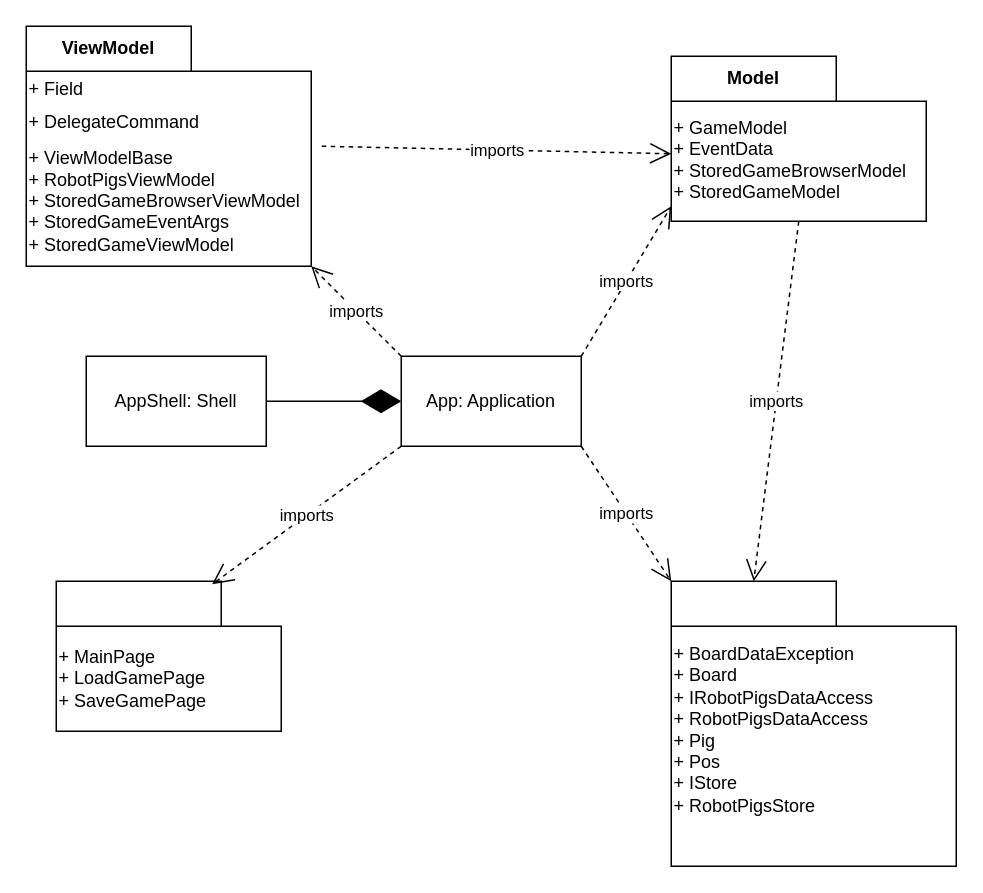
Image size: 983x893. Some labels were removed from this diagram. The box of each missing label's shape, as (x1, y1, x2, y2) in pixels:
Persistence: (670, 580, 956, 866)
View: (55, 580, 281, 731)
